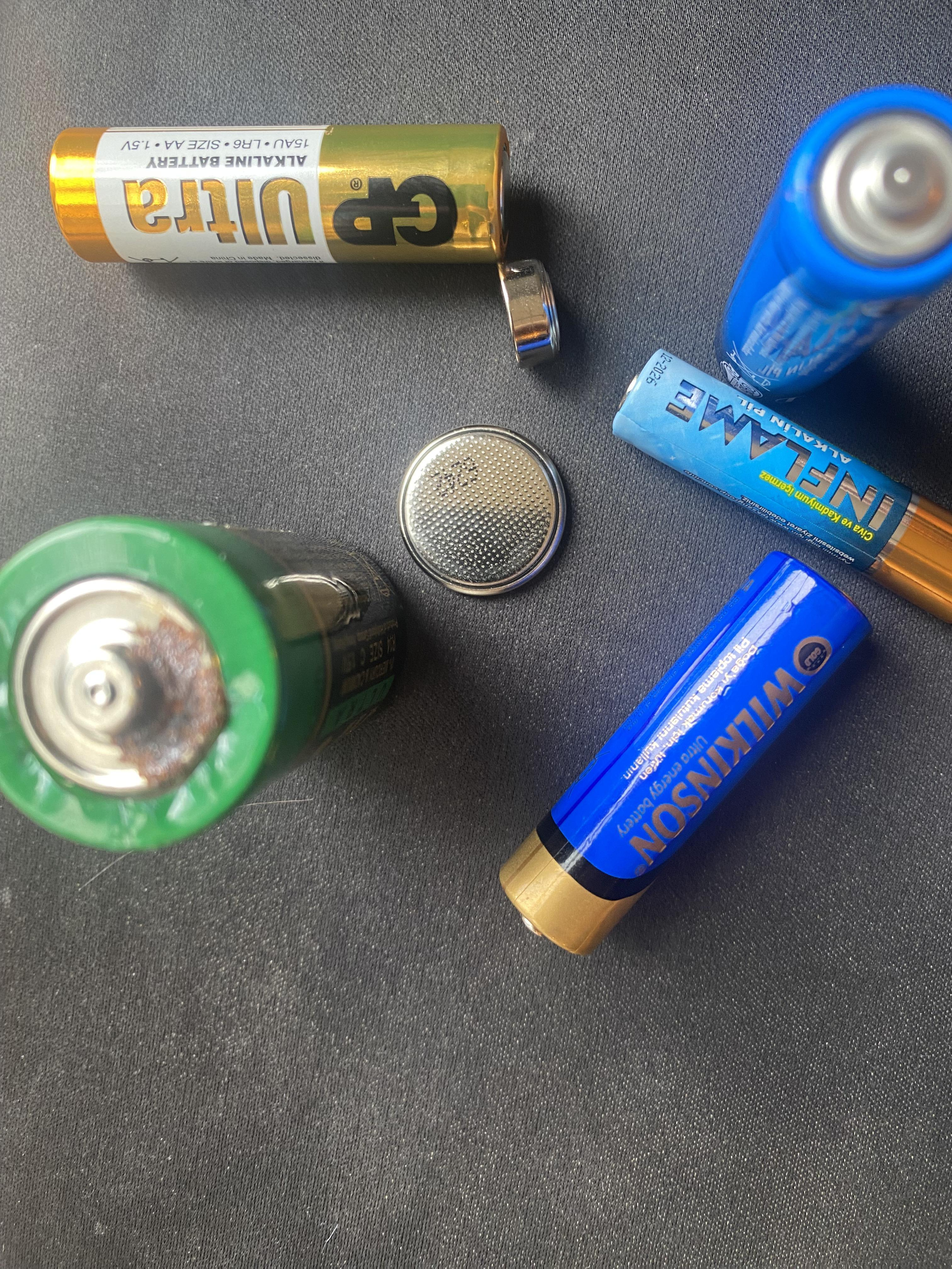AA: (494, 535, 884, 965), (605, 340, 952, 633), (714, 77, 952, 414), (41, 118, 521, 269)
COIN: (393, 422, 571, 604)
